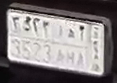2: (31, 18, 42, 62)
3: (42, 21, 53, 63), (11, 16, 21, 58)
5: (21, 19, 32, 60)
A: (76, 30, 87, 69), (55, 25, 65, 66)
H: (65, 28, 76, 66)
